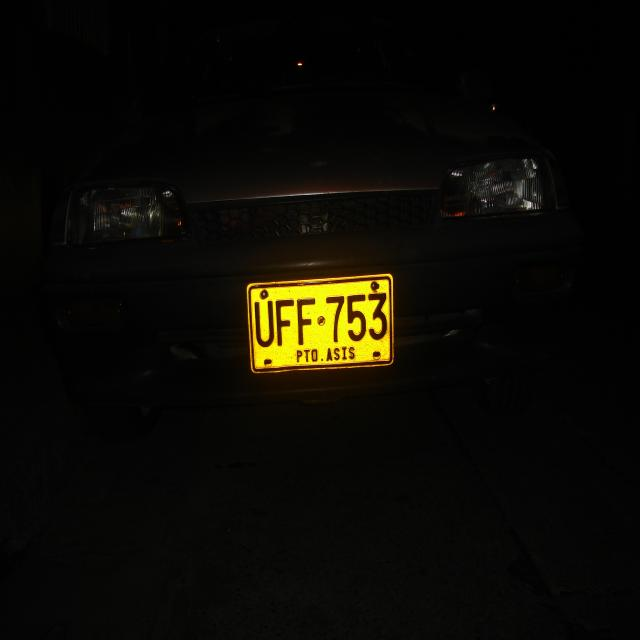placa: (240, 266, 398, 379)
